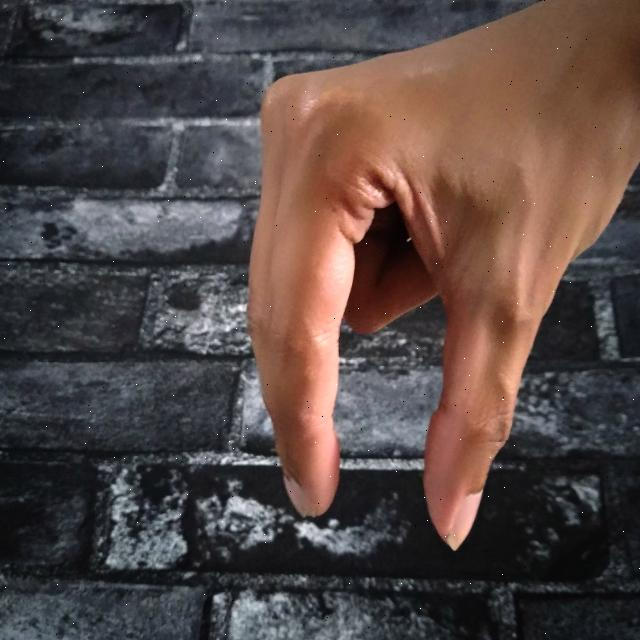Q: (238, 0, 640, 566)
